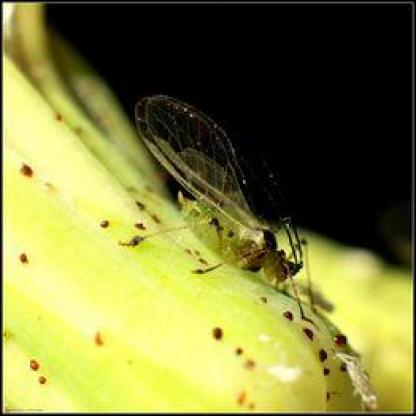aphid: (127, 100, 321, 318)
